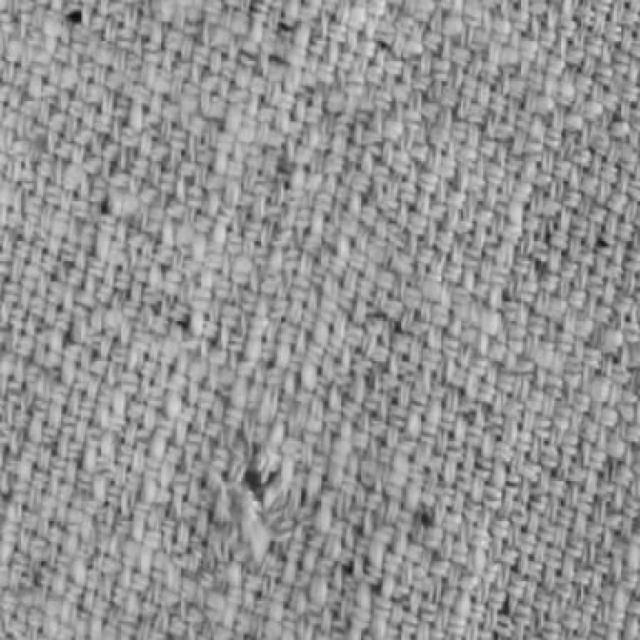seam: (221, 456, 292, 508)
